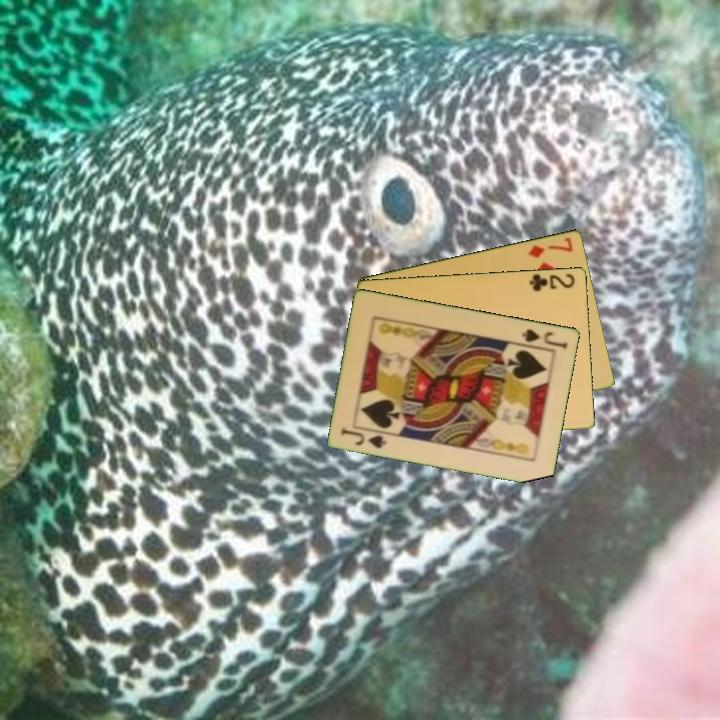2c: (526, 270, 578, 294)
7d: (525, 233, 576, 260)
Js: (338, 423, 390, 451), (519, 325, 571, 352)
